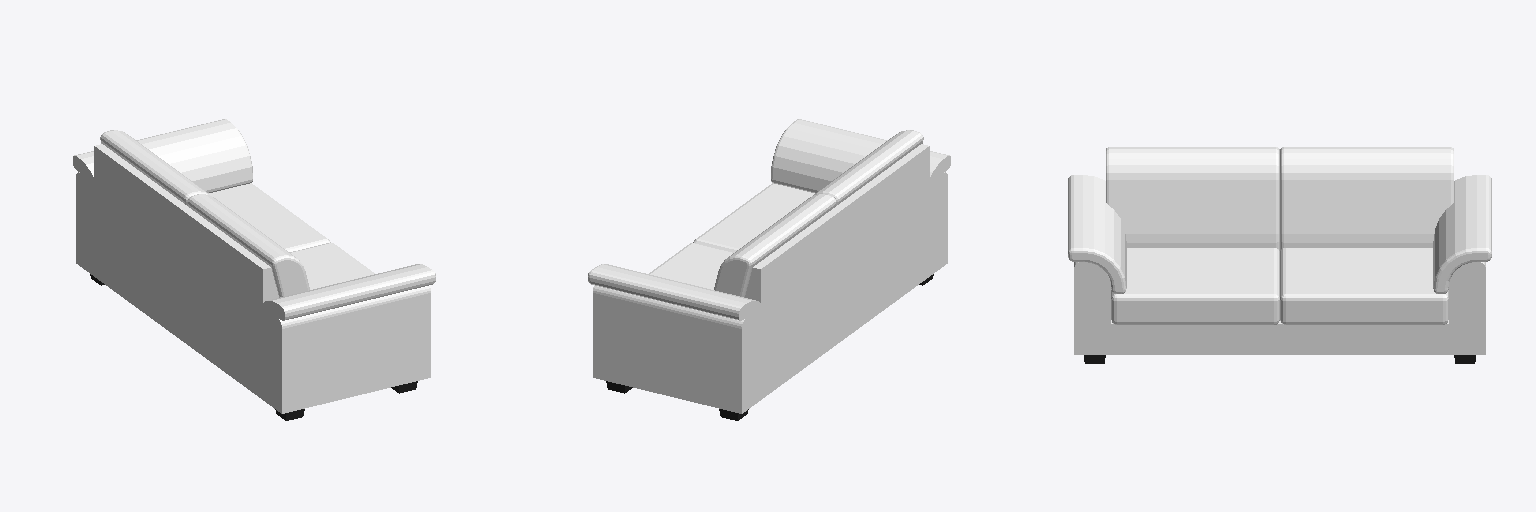
3 views of the same model, side by side, from view 1: azimuth 30°, elevation 25°; view 2: azimuth 150°, elevation 25°; view 3: azimuth 270°, elevation 25° (orthographic).
Parts seen in each view (by area): view 1: Mesh10 Composant_76_1 Model, Mesh4 Composant_70_1 Composant_72_1 Model, Mesh2 Composant_75_2 Model, Mesh1 Composant_75_1 Model, Mesh7 Composant_77_2 Model, Mesh9 Composant_73_2 Model, Mesh3 Composant_77_1 Model, Mesh8 Composant_73_1 Model, Mesh5 Composant_70_2 Composant_72_1 Model; view 2: Mesh10 Composant_76_1 Model, Mesh5 Composant_70_2 Composant_72_1 Model, Mesh1 Composant_75_1 Model, Mesh2 Composant_75_2 Model, Mesh3 Composant_77_1 Model, Mesh8 Composant_73_1 Model, Mesh7 Composant_77_2 Model, Mesh9 Composant_73_2 Model, Mesh4 Composant_70_1 Composant_72_1 Model; view 3: Mesh3 Composant_77_1 Model, Mesh7 Composant_77_2 Model, Mesh8 Composant_73_1 Model, Mesh9 Composant_73_2 Model, Mesh6 Composant_71_1 Composant_72_1 Model, Mesh1 Composant_75_1 Model, Mesh2 Composant_75_2 Model, Mesh4 Composant_70_1 Composant_72_1 Model, Mesh5 Composant_70_2 Composant_72_1 Model.
Part boxes in pixels (bbox=[...]): Mesh10 Composant_76_1 Model: bbox=[94, 144, 278, 399]; Mesh4 Composant_70_1 Composant_72_1 Model: bbox=[263, 285, 430, 413]; Mesh2 Composant_75_2 Model: bbox=[73, 119, 252, 219]; Mesh1 Composant_75_1 Model: bbox=[256, 264, 435, 336]; Mesh7 Composant_77_2 Model: bbox=[188, 194, 309, 297]; Mesh9 Composant_73_2 Model: bbox=[209, 183, 330, 251]; Mesh3 Composant_77_1 Model: bbox=[100, 130, 210, 205]; Mesh8 Composant_73_1 Model: bbox=[289, 243, 374, 289]; Mesh5 Composant_70_2 Composant_72_1 Model: bbox=[76, 172, 93, 275]; Mesh10 Composant_76_1 Model: bbox=[745, 144, 929, 399]; Mesh5 Composant_70_2 Composant_72_1 Model: bbox=[593, 285, 760, 413]; Mesh1 Composant_75_1 Model: bbox=[771, 119, 950, 219]; Mesh2 Composant_75_2 Model: bbox=[588, 264, 767, 336]; Mesh3 Composant_77_1 Model: bbox=[714, 194, 835, 297]; Mesh8 Composant_73_1 Model: bbox=[693, 183, 814, 251]; Mesh7 Composant_77_2 Model: bbox=[813, 130, 923, 205]; Mesh9 Composant_73_2 Model: bbox=[649, 243, 734, 289]; Mesh4 Composant_70_1 Composant_72_1 Model: bbox=[930, 172, 947, 275]; Mesh3 Composant_77_1 Model: bbox=[1280, 147, 1453, 250]; Mesh7 Composant_77_2 Model: bbox=[1106, 147, 1279, 250]; Mesh8 Composant_73_1 Model: bbox=[1111, 248, 1279, 324]; Mesh9 Composant_73_2 Model: bbox=[1280, 248, 1448, 324]; Mesh6 Composant_71_1 Composant_72_1 Model: bbox=[1111, 320, 1448, 354]; Mesh1 Composant_75_1 Model: bbox=[1068, 175, 1126, 293]; Mesh2 Composant_75_2 Model: bbox=[1433, 175, 1491, 293]; Mesh4 Composant_70_1 Composant_72_1 Model: bbox=[1074, 262, 1110, 354]; Mesh5 Composant_70_2 Composant_72_1 Model: bbox=[1449, 262, 1485, 354].
Bounding box in the file's own units: 95 × 91.05 × 226.